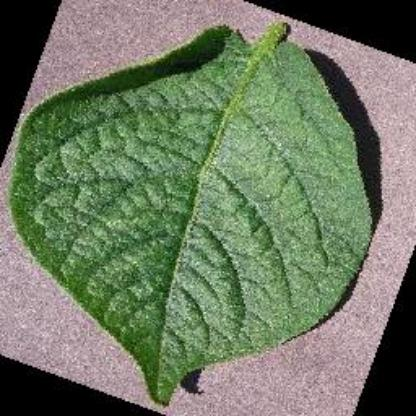Healthy-plant: (14, 19, 382, 411)
